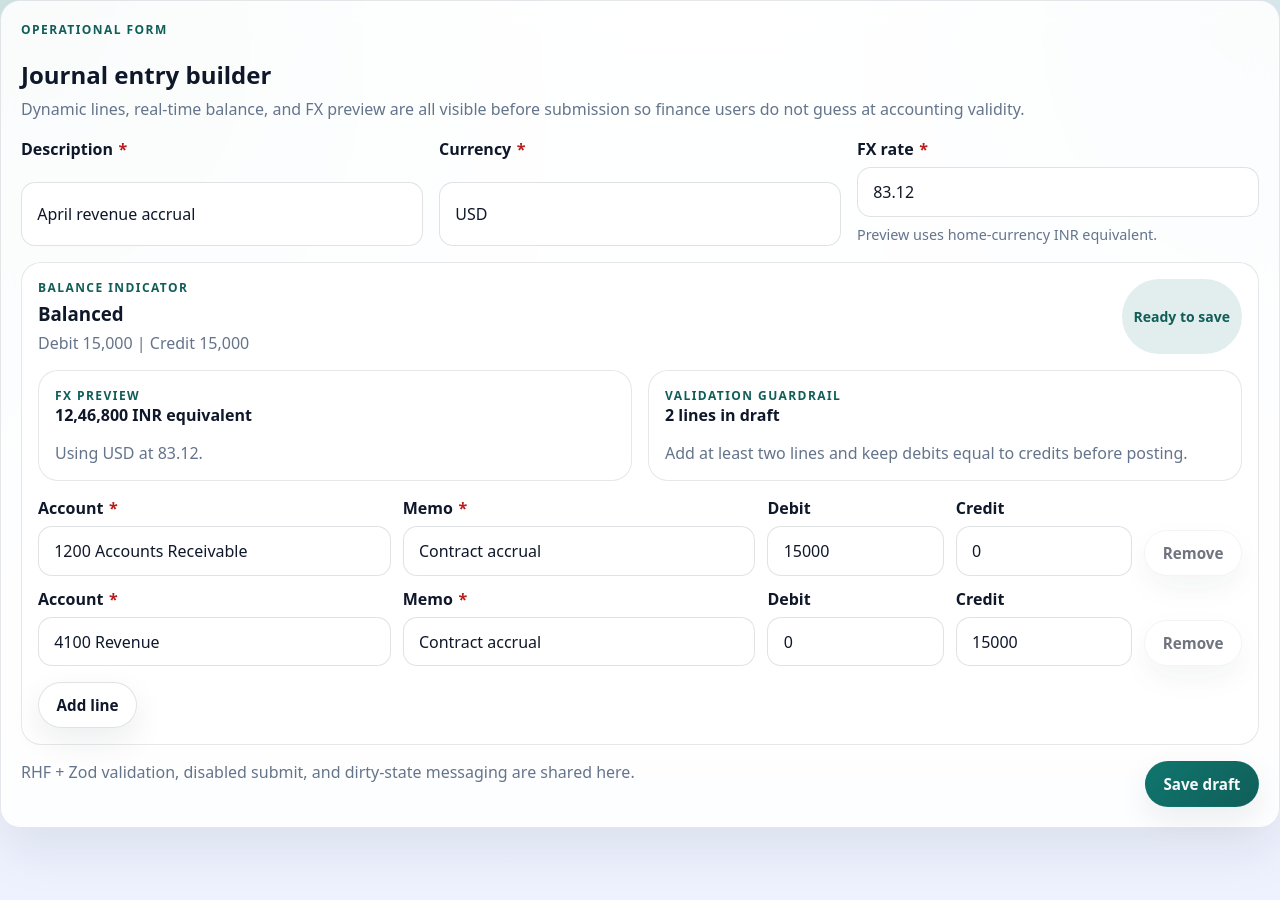
Test: journal entry builder › updates the balance indicator in real time
expect the heading "Balanced" is shown: met, box x1=38 y1=301 x2=124 y2=326
Clear the 1st number field labelled "Debit" at (856, 551), box x1=767 y1=526 x2=944 y2=576
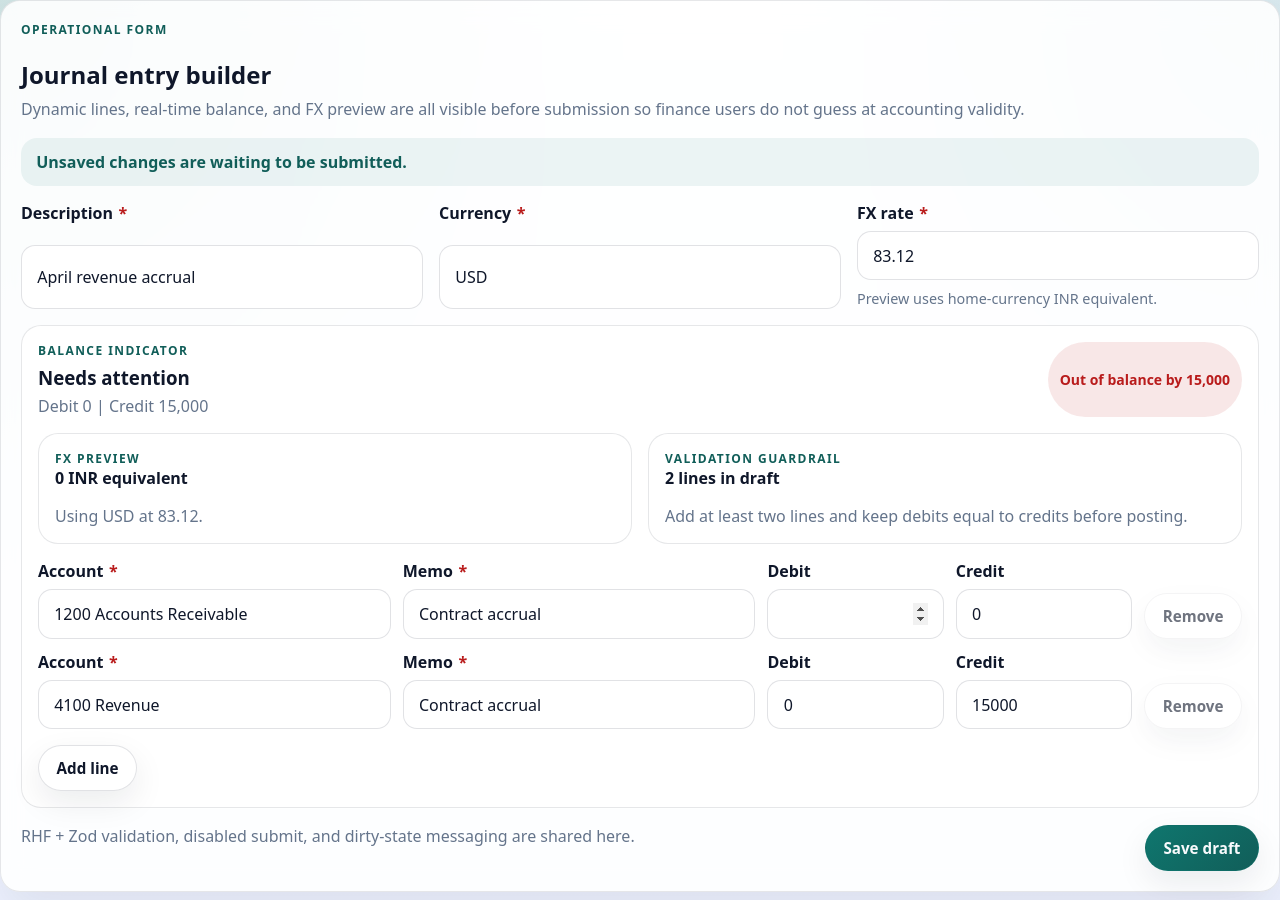
Type "17000" into the 1st number field labelled "Debit" at (856, 614), box x1=767 y1=590 x2=944 y2=639
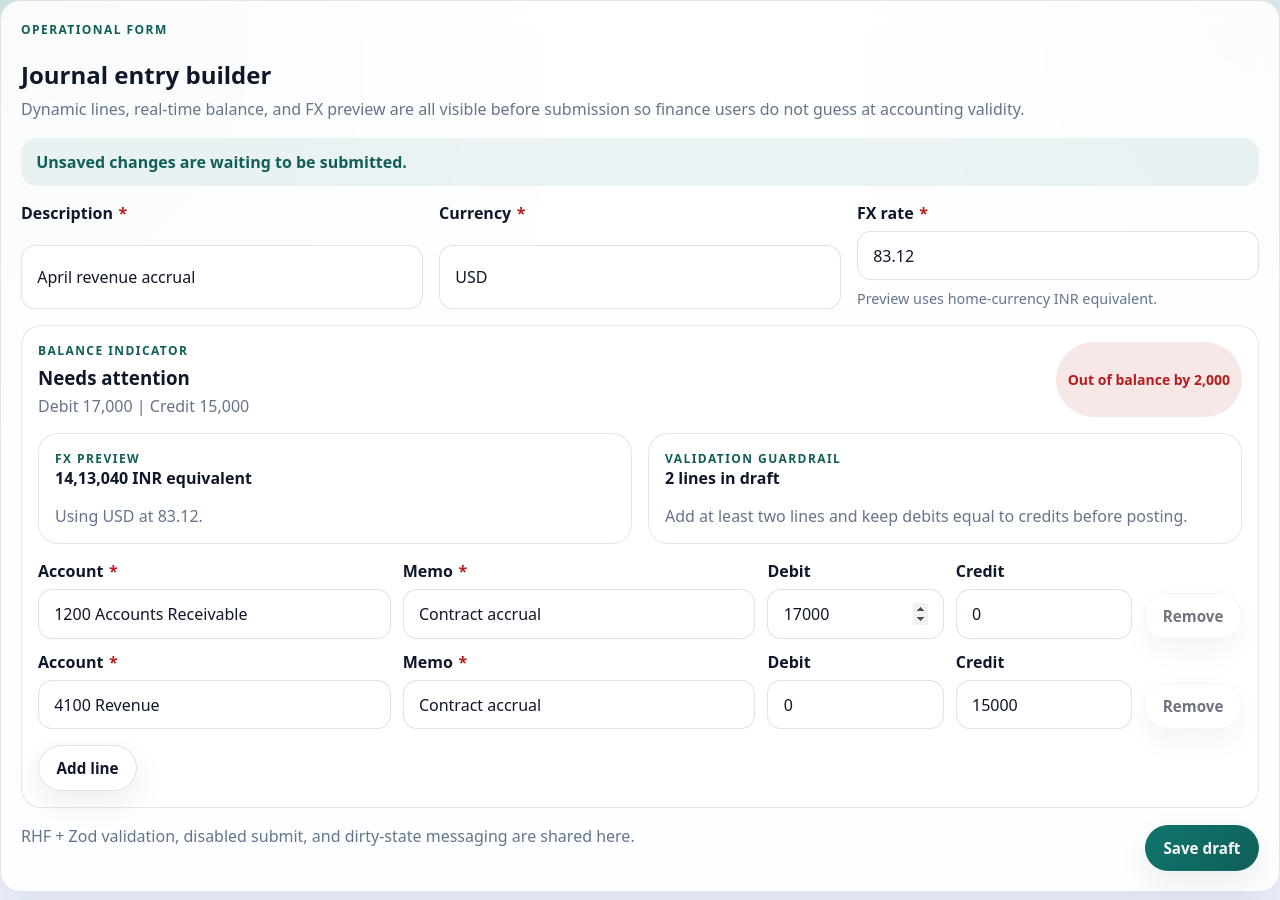
expect the heading "Needs attention" is shown: met, box x1=38 y1=365 x2=190 y2=390
expect the text "Out of balance by 2,000" is shown: met, box x1=1056 y1=342 x2=1242 y2=418
